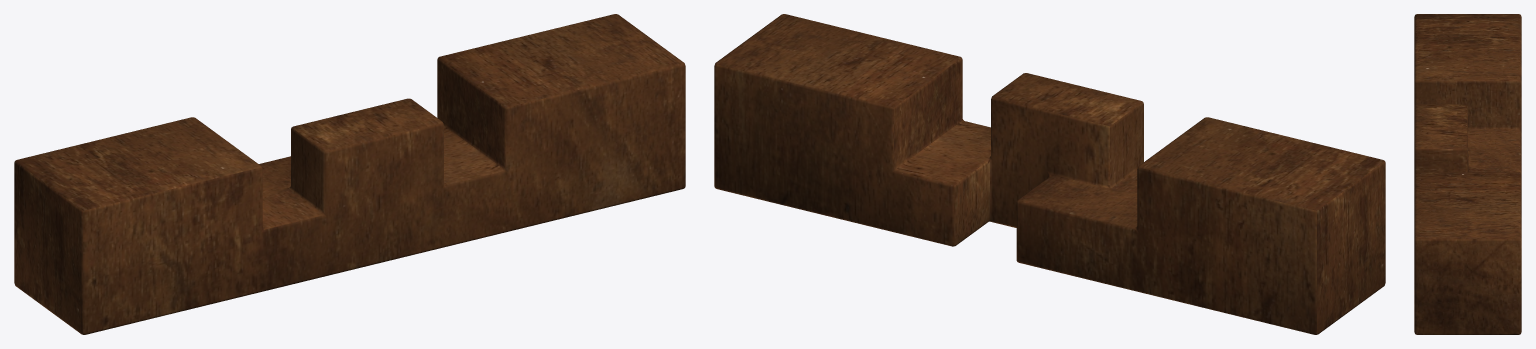
Rendered from step_01_luban_a.glb.
3 renders of one model, left to right at view 1: azimuth 30°, elevation 25°; view 2: azimuth 150°, elevation 25°; view 3: azimuth 270°, elevation 25°, orthographic. The views are drawn at different scales.
Parts seen in each view (by area): view 1: luban_a; view 2: luban_a; view 3: luban_a.
Boxes of the visible parts, left/top/right/bottom form: luban_a: left=14, top=14, right=685, bottom=334; luban_a: left=714, top=14, right=1385, bottom=334; luban_a: left=1414, top=14, right=1521, bottom=334.
Size of the model in its own units: 10 by 2 by 2.
Materials: 1 (1 with a texture image).
